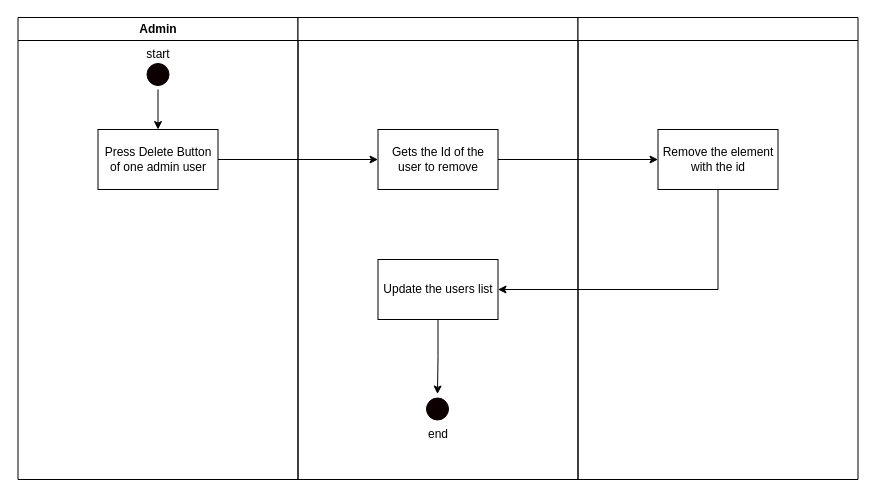
This 875x497 diagram has some shape labels left out. Each missing label, with the box of its shape:
Database: (577, 16, 858, 480)
System: (297, 16, 578, 480)
